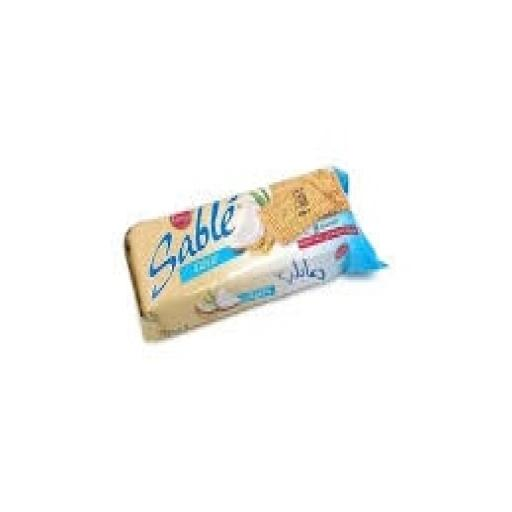sable: (97, 127, 400, 350)
